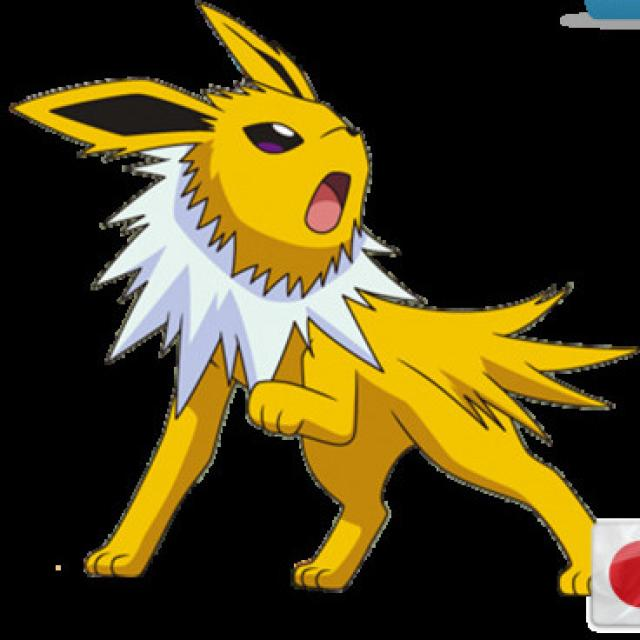Jolteon: (100, 72, 574, 578)
